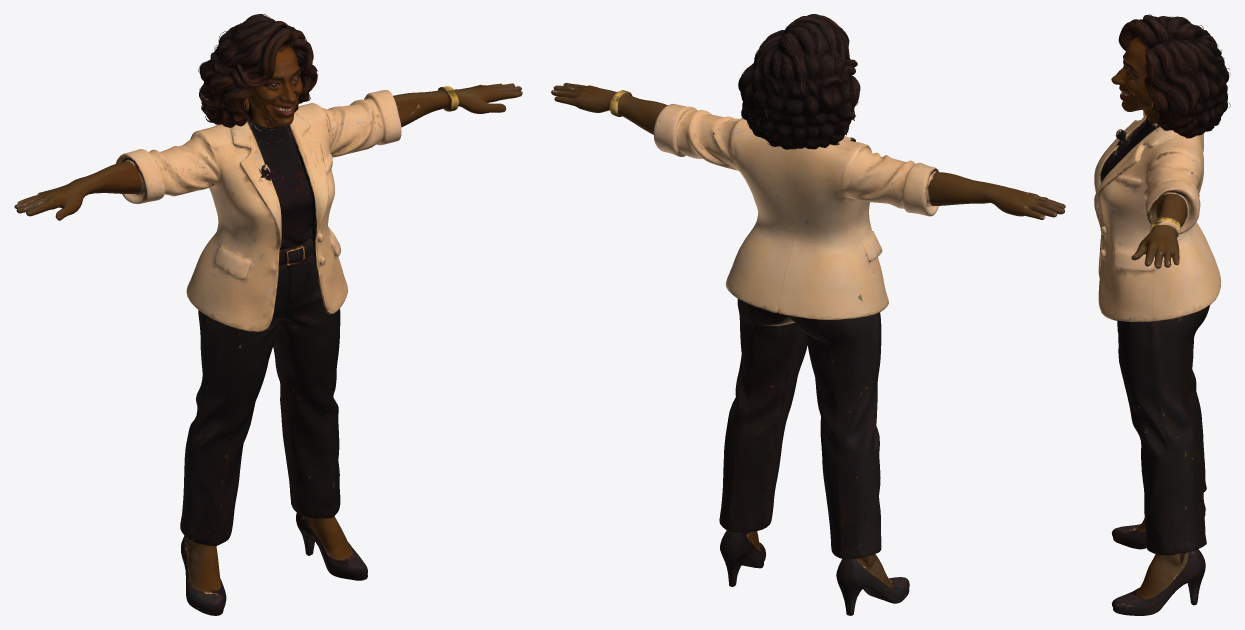
File: gloria-pele-escura.glb
3 renders of one model, left to right at view 1: azimuth 30°, elevation 25°; view 2: azimuth 150°, elevation 25°; view 3: azimuth 270°, elevation 25°, orthographic.
Parts seen in each view (by area): view 1: Corpo Glória Maria, Cabeça Glória Maria; view 2: Corpo Glória Maria, Cabeça Glória Maria; view 3: Corpo Glória Maria, Cabeça Glória Maria.
Boxes of the visible parts, x1,y1,x2,y2 form: Corpo Glória Maria: (14,83,522,615); Cabeça Glória Maria: (198,14,317,127); Corpo Glória Maria: (551,82,1065,615); Cabeça Glória Maria: (738,14,860,149); Corpo Glória Maria: (1094,111,1221,615); Cabeça Glória Maria: (1111,14,1230,138).
Bounding box in the file's own units: 1.99 × 2.12 × 0.4683.
2 materials, 2 textured.
